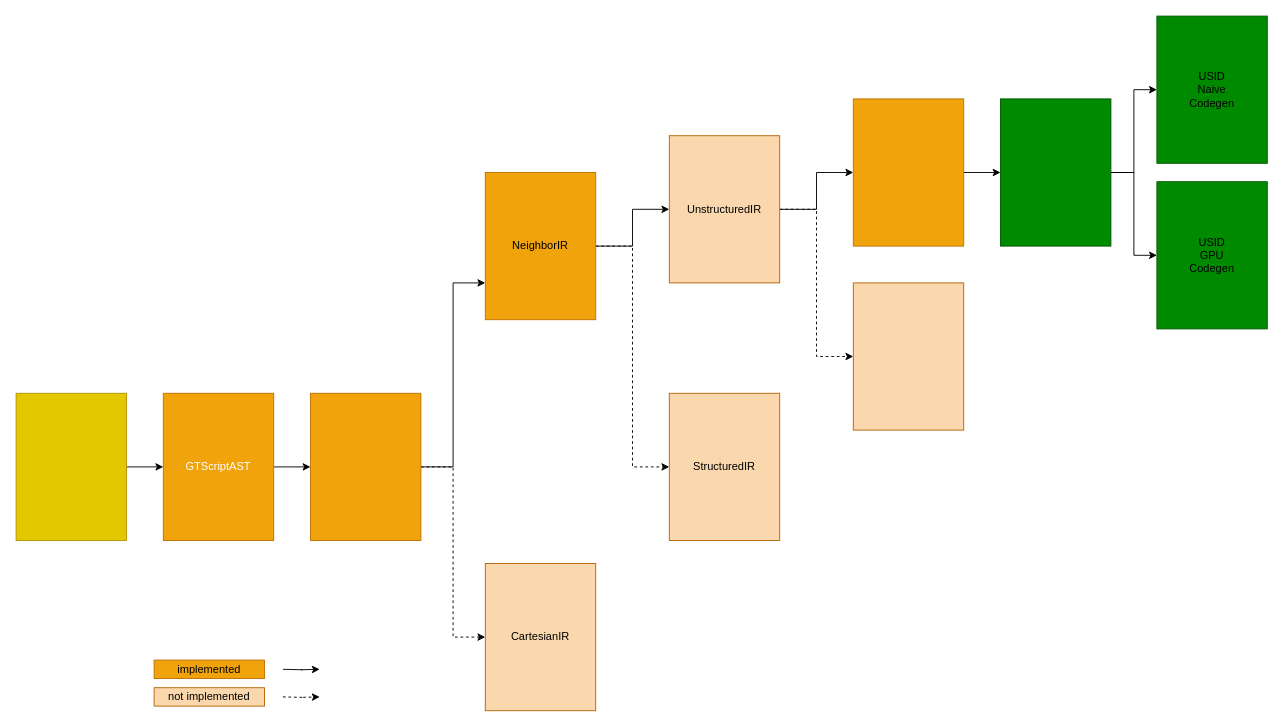
This 1283x727 diagram has some shape labels left out. Each missing label, with the centre of its shape:
GTIR: (365,466)
GTScript: (70,466)
UNaive: (908,356)
USID: (908,172)
USID Codegen (Baseclass): (1055,172)
